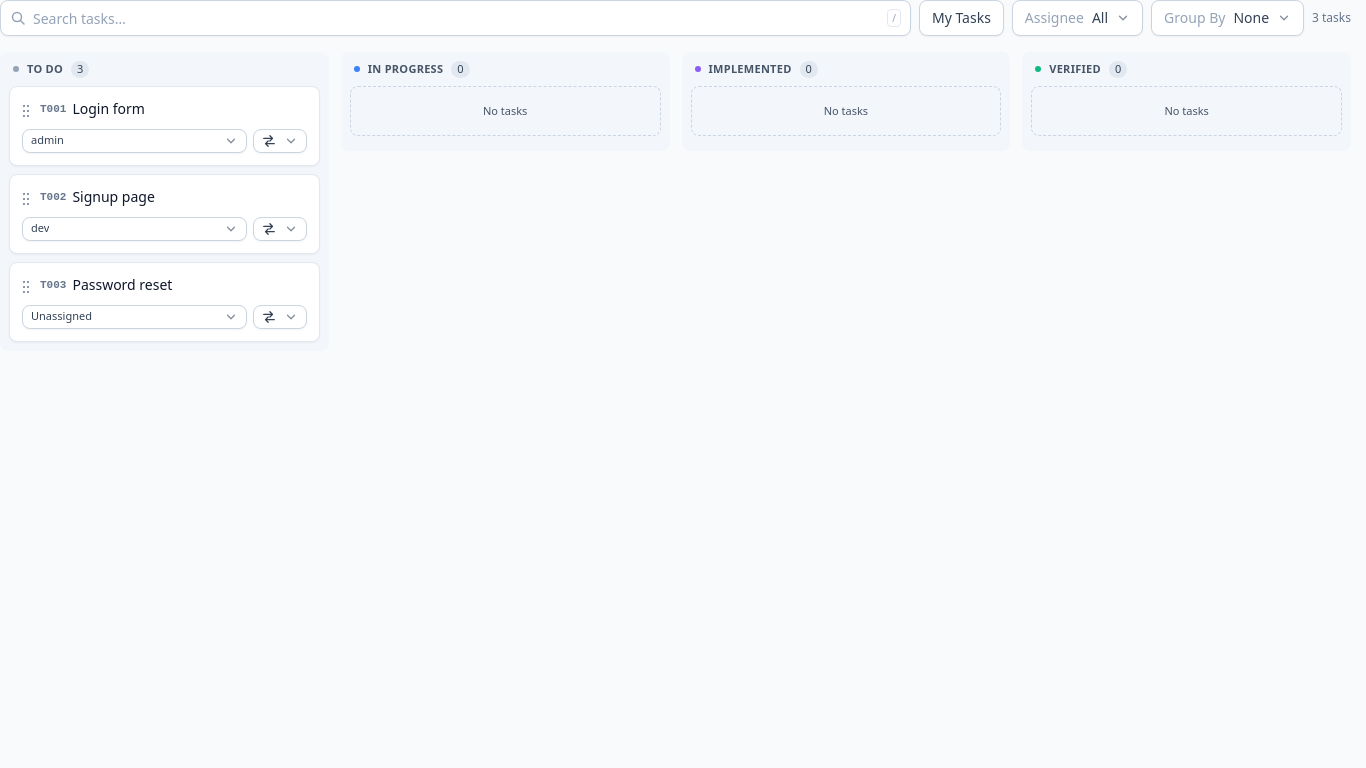
TaskBoard filters, lanes and drawer › opens a task's details from its title and closes them again
The image size is (1366, 768).
Click the button "Signup page" at (190,196), box [72,186,307,206]
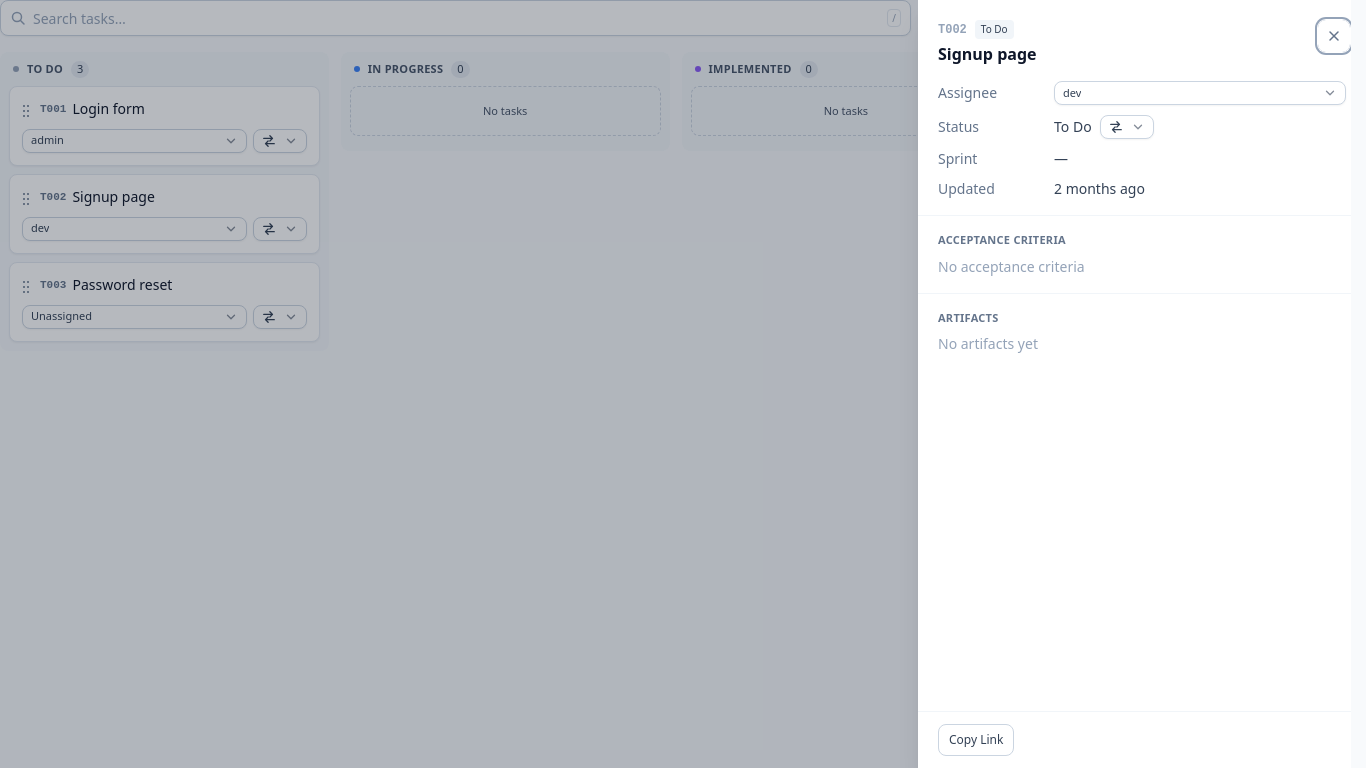
expect the dropdown named "Assignee for T002" is shown: met, box [1054,81,1346,105]
Click the button named "Close task details" at (1334,36), box [1318,20,1350,52]
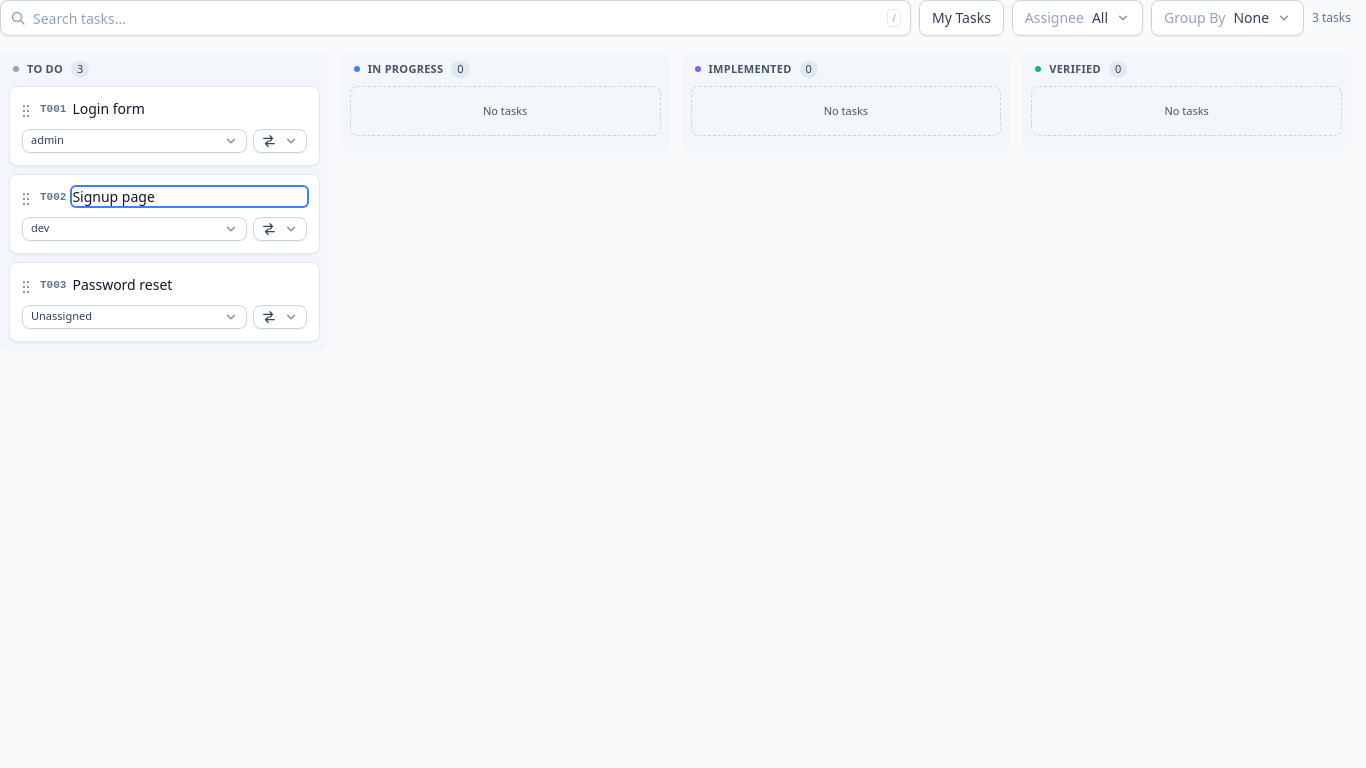
expect the dialog is gone: met
